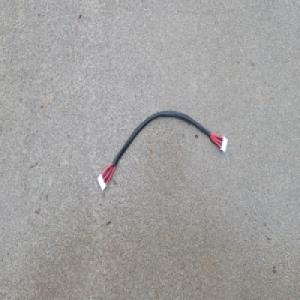Wire: (96, 108, 228, 192)
